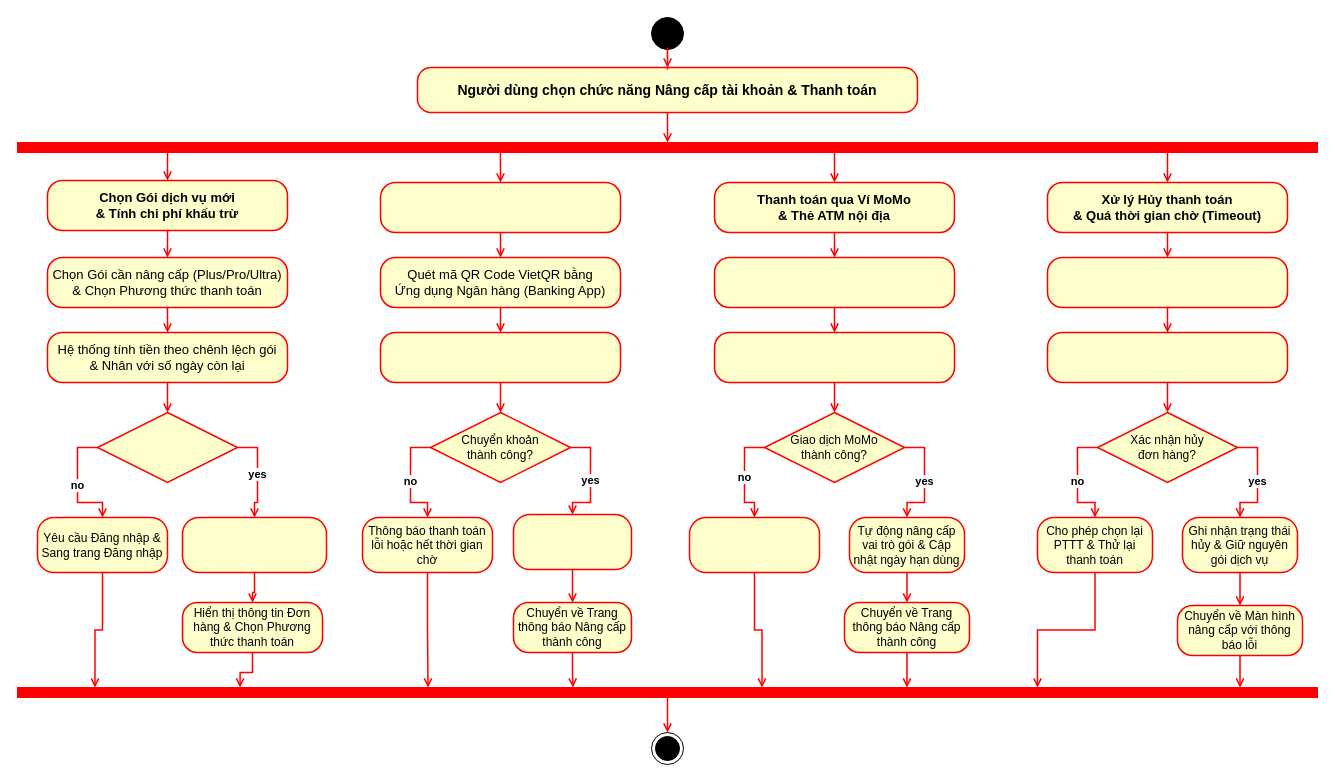
The diagram is 1335 pixels wide and 782 high, and some of its shapes have lost their labels. Here are the shapes that lost their labels. From the top down, the centre of each, then its label:
the point at 500,207: Thanh toán qua Mã QR Code VietQR (Cổng PayOS)
the point at 834,282: Nhập thông tin thẻ ATM / Ví MoMo & Xác nhận giao dịch
the point at 1167,282: Người dùng hủy giao diện thanh toán hoặc hết hạn 15 phút chờ
the point at 500,357: Hệ thống tiếp nhận phản hồi Webhook xác nhận chuyển khoản thành công
the point at 834,357: Hệ thống tiếp nhận phản hồi Callback từ Cổng thanh toán MoMo
the point at 1167,357: Hệ thống hủy đơn hàng tạm thời & Giữ nguyên gói hiện tại
the point at 167,447: Tài khoản đã đăng nhập?
the point at 254,544: Khởi tạo mã đơn hàng duy nhất & Ghi nhận tổng chi phí
the point at 572,541: Tự động nâng cấp vai trò gói & Gia hạn ngày sử dụng
the point at 754,544: Thông báo giao dịch MoMo thất bại hoặc bị hủy bỏ
